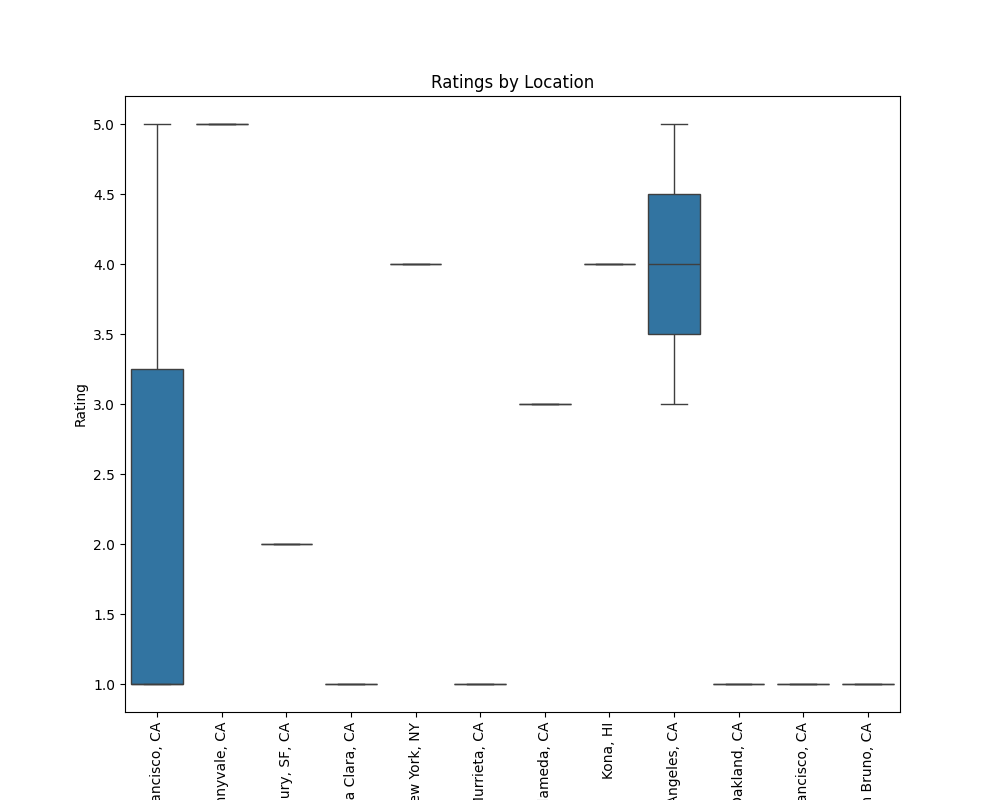

The dashboard page shown, as its layout file describes it:
{"tool":"tableau","page":{"name":"Dashboard 1","canvas":[1000,1000],"units":"permille","ordinal":0},"visuals":[{"type":"worksheet","title":"Sheet 2","mark":"Bar","rows":["count"],"cols":["date","date"],"box":[1.8,480.7,991,499.4]}]}

Visuals, with their boxes on the dashboard's canvas, which has no fixed pixel size, in thousandths of its width and height (x1, y1, x2, y2). These are canvas units, not pixel positions in the 1000x800 screenshot, which may show the page scaled, cropped or inside an application window:
"Sheet 2" worksheet (Bar marks): {"left": 2, "top": 481, "right": 993, "bottom": 980}
